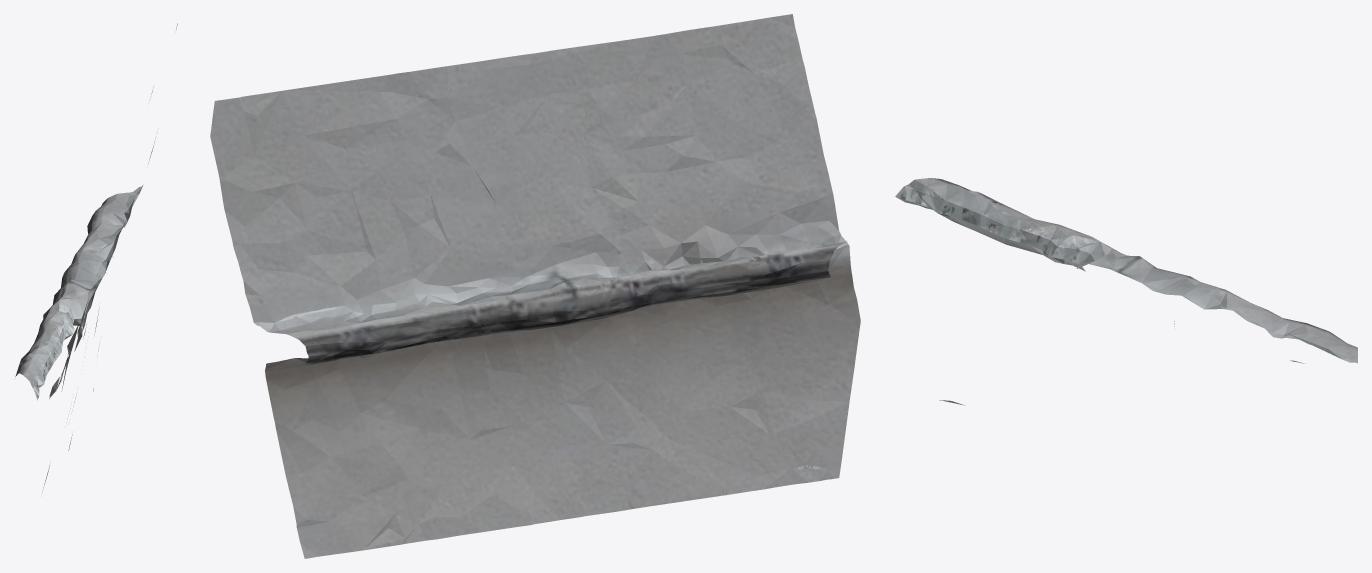
The picture shows the model from 3 angles, left to right: view 1: azimuth 30°, elevation 25°; view 2: azimuth 150°, elevation 25°; view 3: azimuth 270°, elevation 25°; orthographic projection. The views are drawn at different scales.
Bounding box in the file's own units: 0.8374 × 0.8374 × 0.8374.
4 materials, 4 textured.
